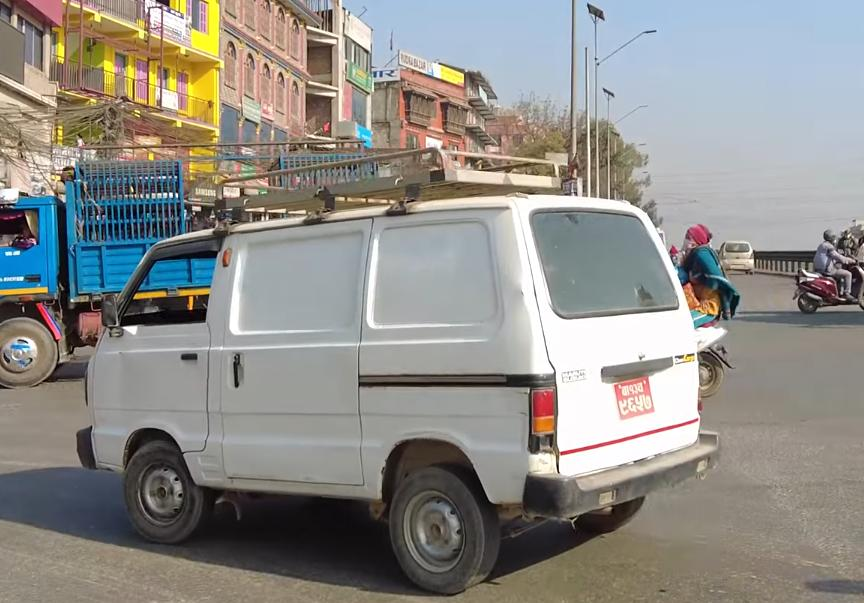mini_truck: (0, 140, 206, 381)
scooter: (794, 258, 864, 319)
van: (53, 149, 719, 593)
